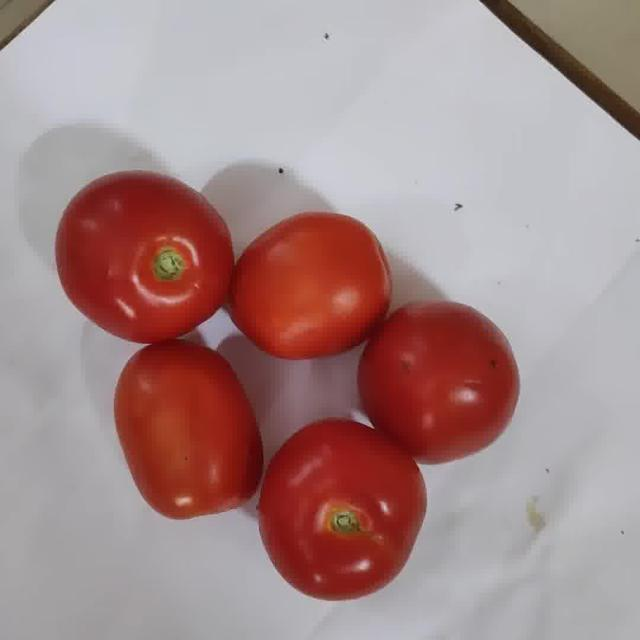Tomato: (55, 171, 234, 343), (258, 418, 426, 600), (114, 340, 263, 519), (359, 302, 519, 463), (228, 212, 391, 359)
